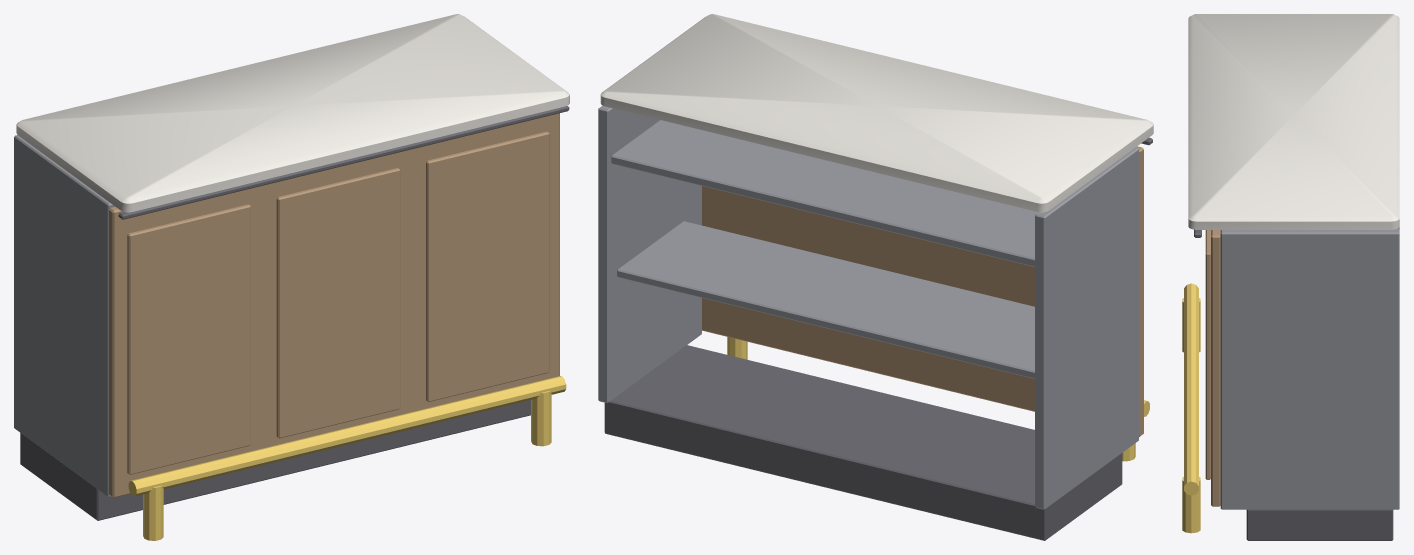
File: nightclub-and-dj-booth-bar-counter-module-d5d14bcd__34115.glb
The picture shows the model from 3 angles, left to right: view 1: azimuth 30°, elevation 25°; view 2: azimuth 150°, elevation 25°; view 3: azimuth 270°, elevation 25°; orthographic projection. The views are drawn at different scales.
Visible parts, largest first — view 1: bar-counter-module; view 2: bar-counter-module; view 3: bar-counter-module.
Part boxes in pixels (x1,y1,x2,y2): bar-counter-module: (14, 14, 569, 540); bar-counter-module: (598, 14, 1153, 540); bar-counter-module: (1182, 14, 1399, 540).
Size of the model in its own units: 1.5 by 1.1 by 0.6685.
